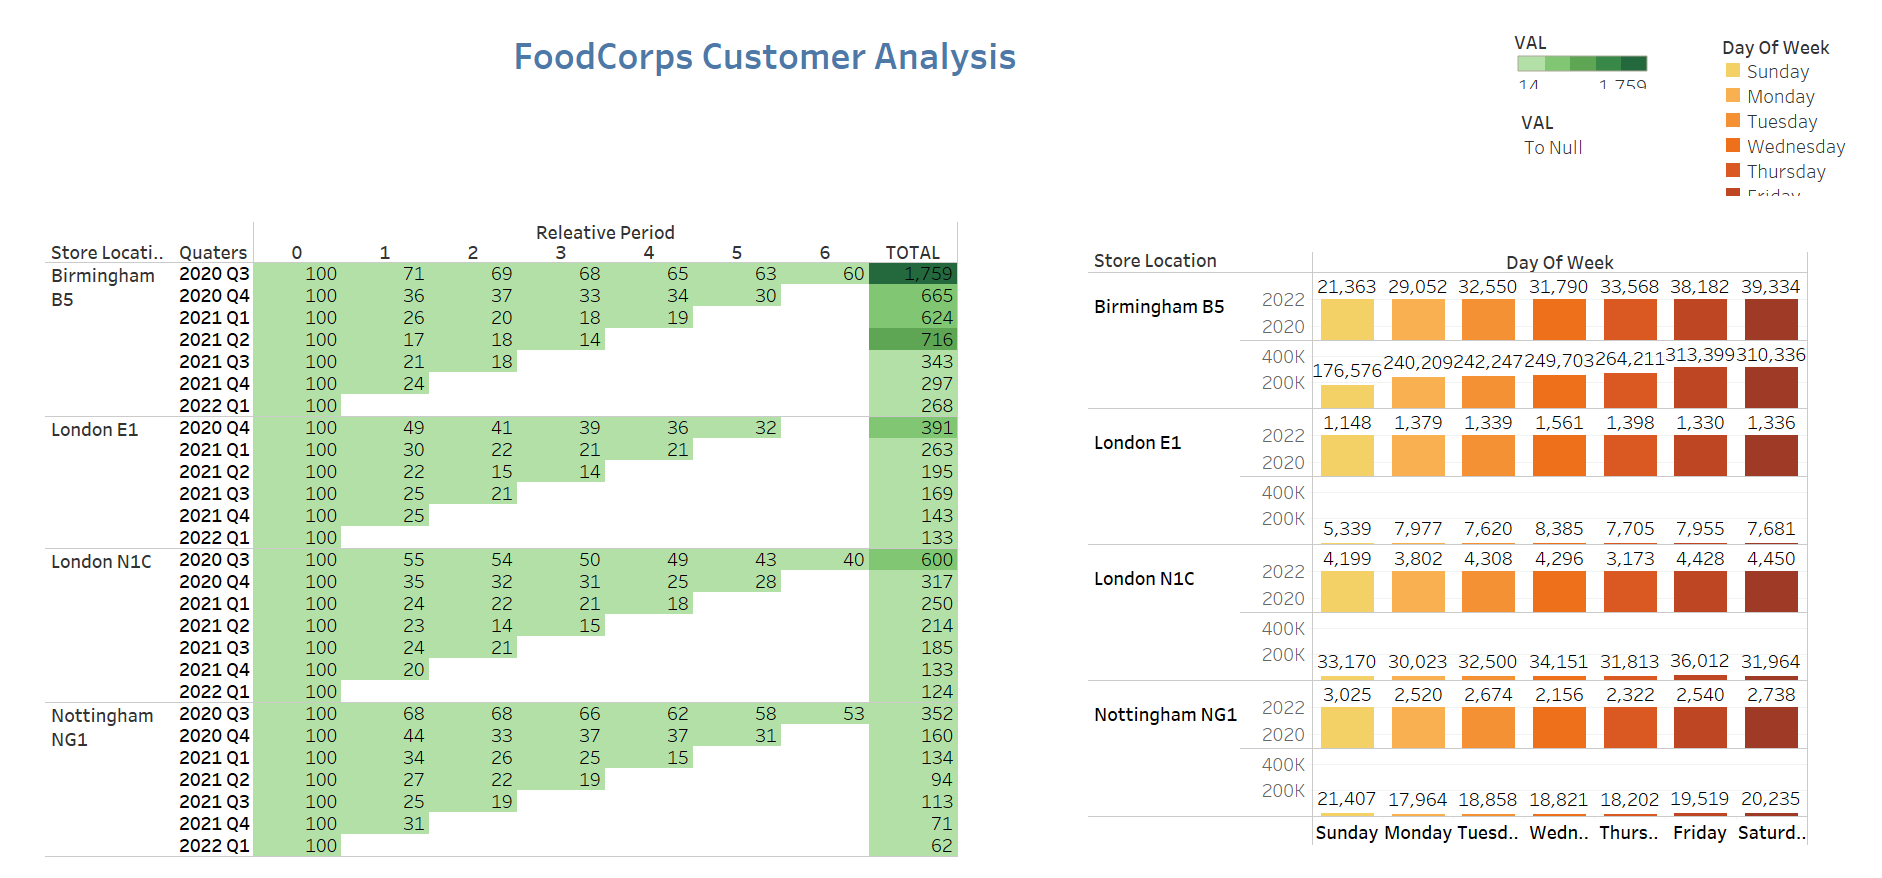

This screenshot's page, from the dashboard's own definition file:
{"tool":"tableau","page":{"name":"Dashboard 2","canvas":[1000,1000],"units":"permille","ordinal":1},"visuals":[{"type":"legend","title":"KPI 5","param":"[federated.0kqfgrk1klldaf1142u9t02afcu7].[sum:VAL:qk]","box":[804.6,28.5,73.1,72.9]},{"type":"text","box":[270.4,29.6,437.2,63.8]},{"type":"legend","title":"KPI 6","param":"[federated.1cvaz88071qvu4164dyh61rojp0n].[none:day_of_week:nk]","box":[914.3,36.5,67.8,186.8]},{"type":"filter","title":"KPI 5","param":"[federated.0kqfgrk1klldaf1142u9t02afcu7].[sum:VAL:qk]","box":[808,123,80.4,52.4]},{"type":"worksheet","title":"KPI 5","mark":"Square","rows":["STORE_LOC","ROW_ID"],"cols":["COL_ID"],"box":[23.9,252.8,647.2,728.9]},{"type":"worksheet","title":"KPI 6","mark":"Bar","rows":["store_loc","sales_year","total_sales"],"cols":["day_of_week"],"box":[578.1,287,382.6,676.5]}]}

Visuals, with their boxes on the dashboard's canvas, which has no fixed pixel size, in thousandths of its width and height (x1, y1, x2, y2). These are canvas units, not pixel positions in the 1882x878 screenshot, which may show the page scaled, cropped or inside an application window:
"KPI 5" legend: 805:28:878:101
text: 270:30:708:93
"KPI 6" legend: 914:36:982:223
"KPI 5" filter: 808:123:888:175
"KPI 5" worksheet (Square marks): 24:253:671:982
"KPI 6" worksheet (Bar marks): 578:287:961:964
